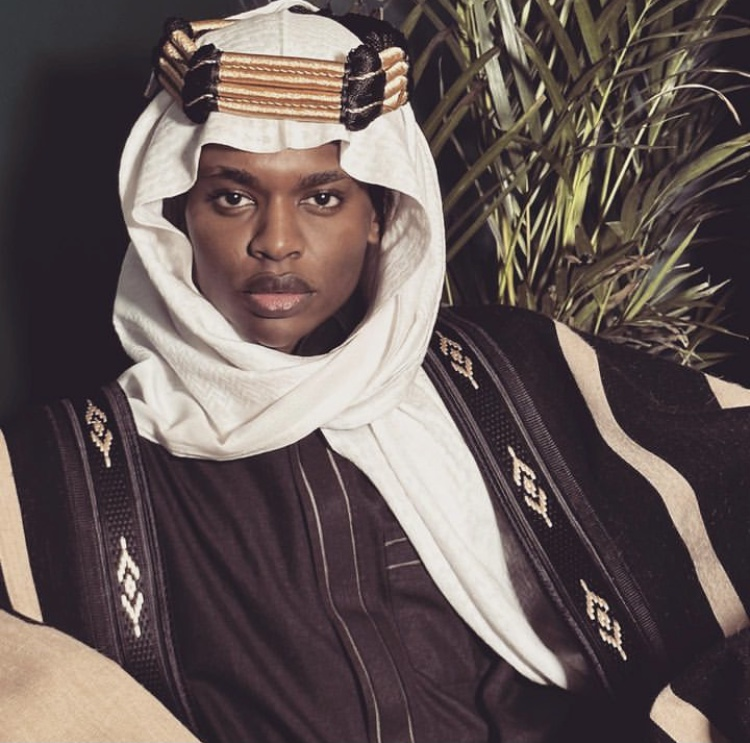Saudi_Founding_Day: (1, 2, 747, 742)
